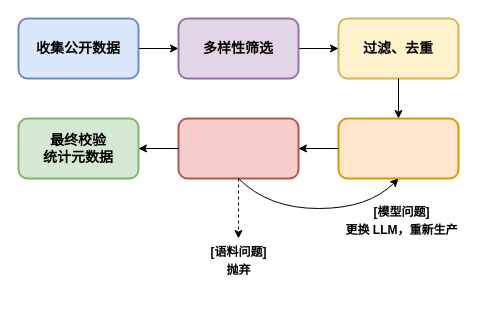
This 488x312 diagram has some shape labels left out. Here are the shapes that lost their labels. From the top down, the centre of each, then its label:
the point at 238,148: 校验翻译 是否成功
the point at 398,148: 翻译
